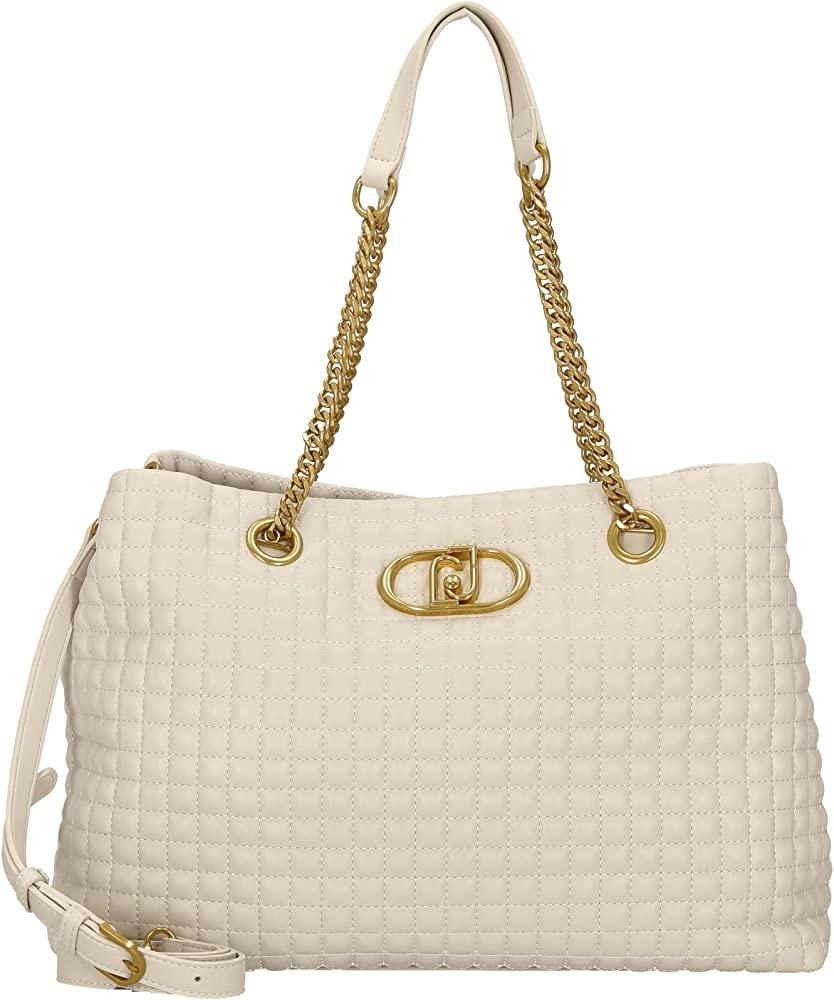LIU-JO: (429, 544, 480, 614)
